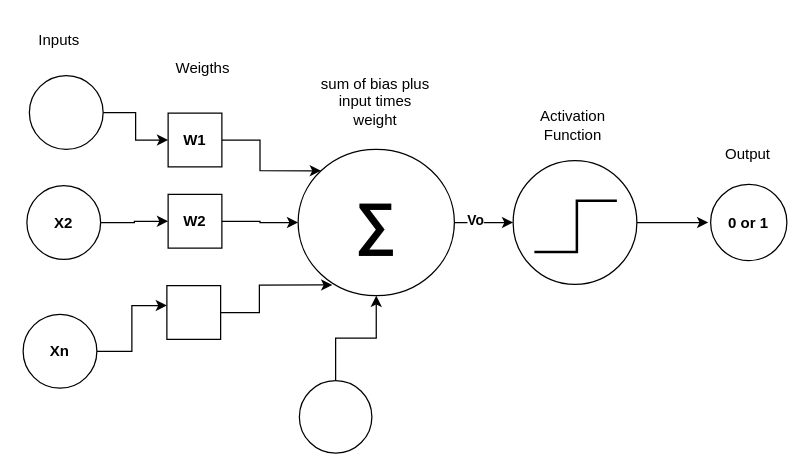
The diagram is 809 pixels wide and 475 high, and some of its shapes have lost their labels. The centre of each missing label's shape, as x and y in pixels:
"Bias" goes at (335,416).
"Wn" goes at (193,311).
"X1" goes at (65,111).
